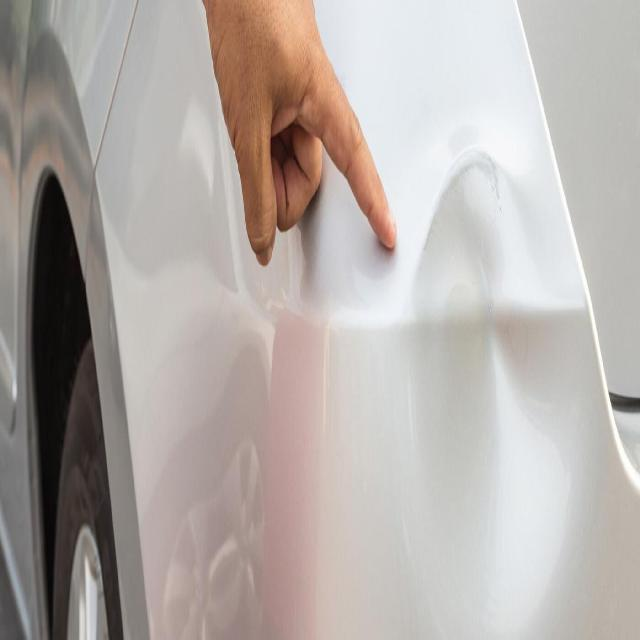dent: (397, 150, 592, 638)
